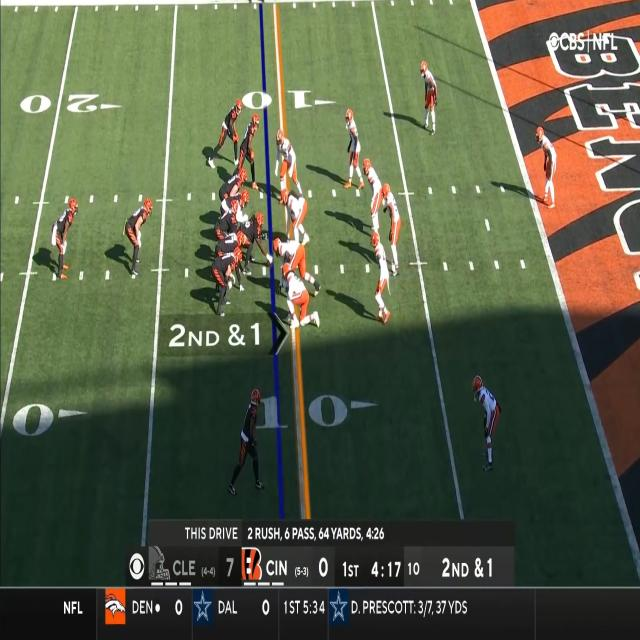football: (267, 256, 273, 266)
players: (228, 389, 268, 498), (472, 378, 505, 473), (273, 235, 313, 291), (125, 198, 153, 276), (210, 250, 243, 316), (282, 272, 316, 336), (214, 98, 244, 170), (238, 111, 264, 190), (371, 234, 394, 322), (234, 214, 268, 272), (275, 131, 299, 213), (384, 182, 404, 278), (536, 125, 559, 208), (56, 200, 78, 282), (214, 232, 244, 290), (366, 163, 388, 239), (283, 193, 312, 250), (343, 108, 362, 190), (419, 63, 439, 135), (214, 197, 239, 252), (218, 172, 248, 215), (222, 190, 250, 234)
